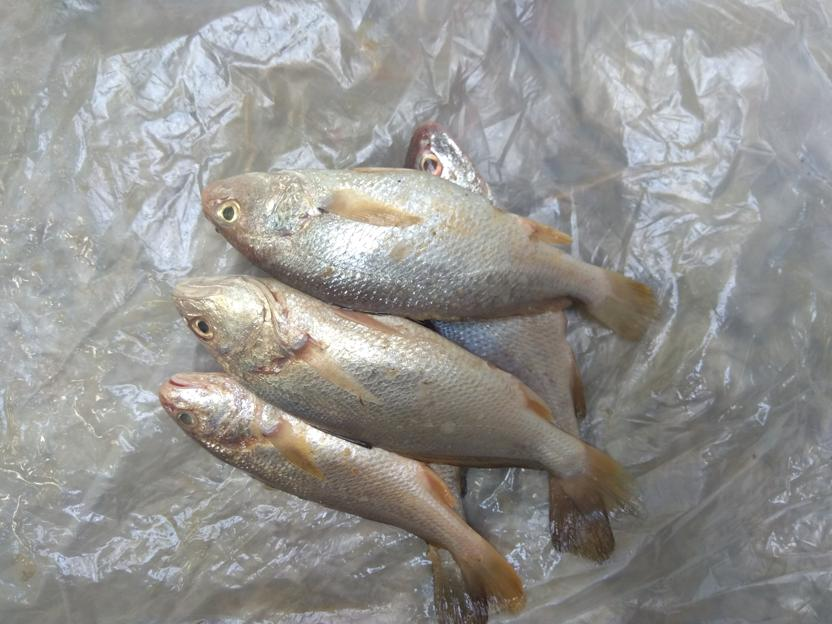Fish head: (200, 167, 322, 271), (170, 272, 290, 373), (159, 374, 269, 453), (404, 126, 493, 197)
Fish tail: (559, 436, 649, 522), (547, 473, 618, 567), (457, 529, 527, 618), (589, 263, 660, 342), (429, 546, 490, 621)
